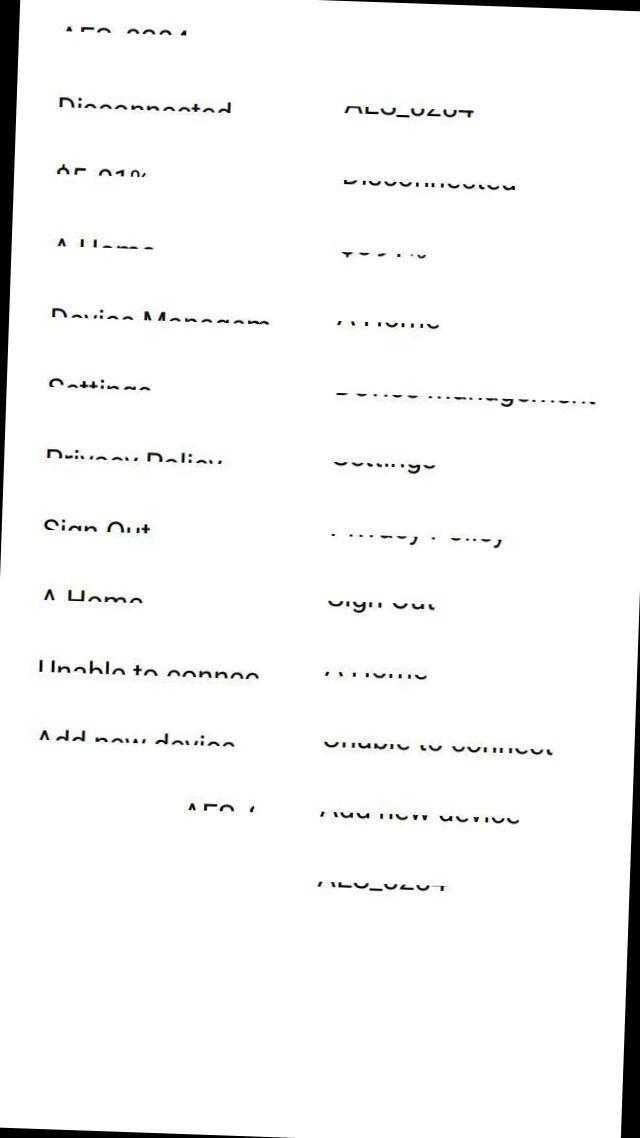WS3: (326, 386, 610, 414), (31, 656, 268, 682), (319, 738, 562, 762), (50, 91, 240, 120), (41, 306, 275, 329), (36, 728, 240, 754), (39, 448, 231, 474), (314, 805, 528, 827), (336, 172, 522, 196), (327, 526, 506, 550), (338, 101, 482, 125), (322, 594, 449, 620), (311, 874, 453, 897), (58, 17, 193, 41), (38, 516, 162, 540), (327, 312, 446, 333), (319, 662, 432, 684), (326, 454, 444, 474), (42, 375, 156, 394), (38, 589, 152, 608), (46, 160, 149, 181), (335, 244, 429, 265), (50, 236, 158, 254), (182, 796, 262, 819)
